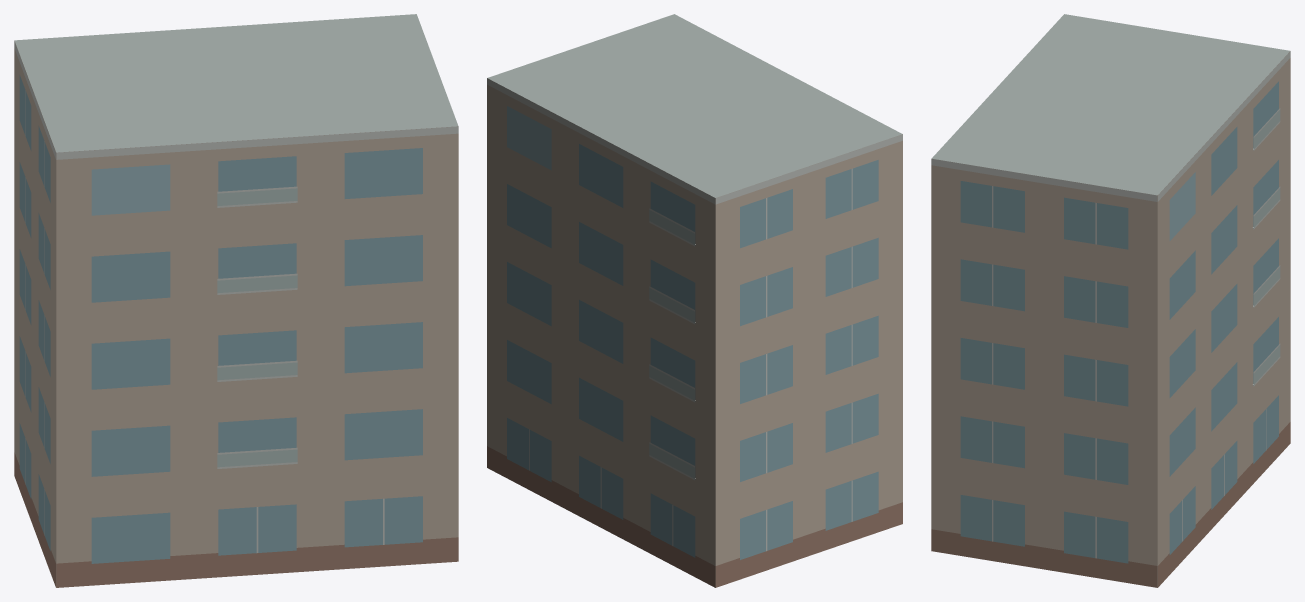
File: survey-upis-32878832.glb
3 views of the same model, side by side, from view 1: azimuth 30°, elevation 25°; view 2: azimuth 150°, elevation 25°; view 3: azimuth 270°, elevation 25° (orthographic). The views are drawn at different scales.
Visible parts, largest first — view 1: survey-upis-32878832.tmp; view 2: survey-upis-32878832.tmp; view 3: survey-upis-32878832.tmp.
Boxes of the visible parts, x1=… form: survey-upis-32878832.tmp: x1=14, y1=14, x2=458, y2=587; survey-upis-32878832.tmp: x1=487, y1=14, x2=902, y2=587; survey-upis-32878832.tmp: x1=931, y1=14, x2=1290, y2=587.
Bounding box in the file's own units: 14.39 × 14.5 × 12.04.
